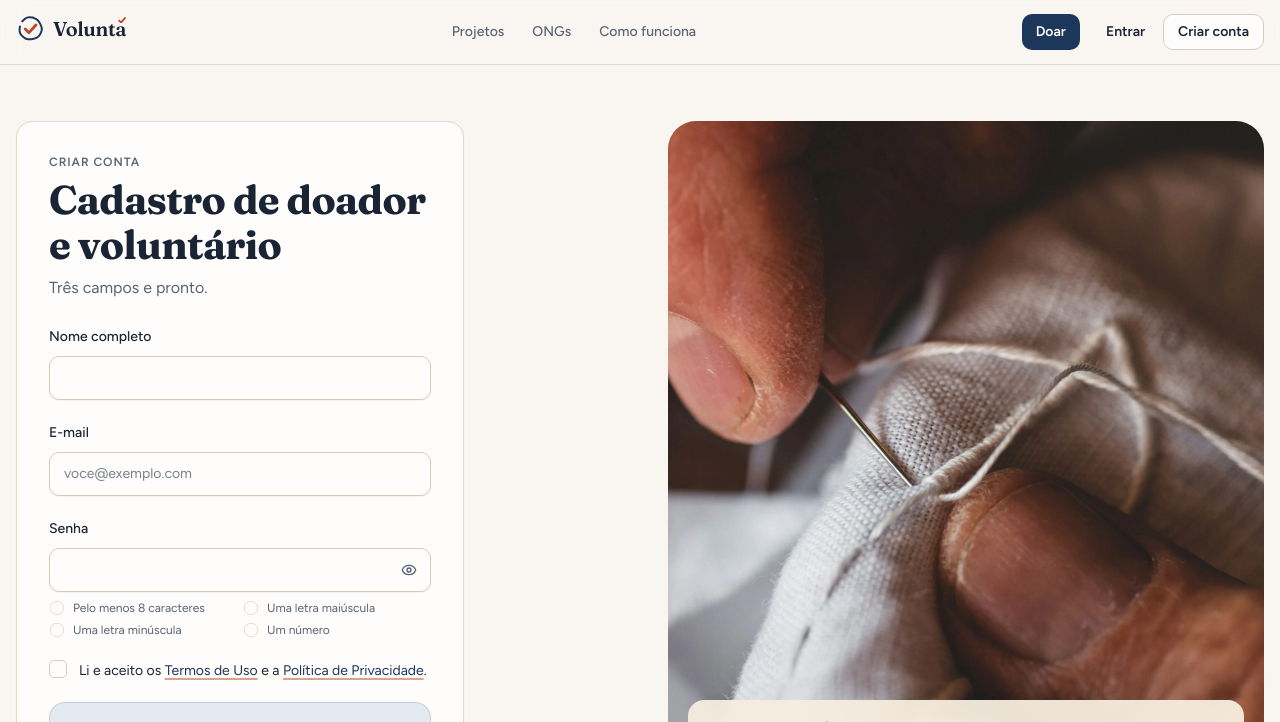
Scenario: CadastroPage: doador › sem sessão na resposta, explica que falta confirmar o e-mail
Type "Maria Souza" into the field labelled "Nome completo".
click(240, 378); type("Maria Souza")  # box [49,356,431,400]
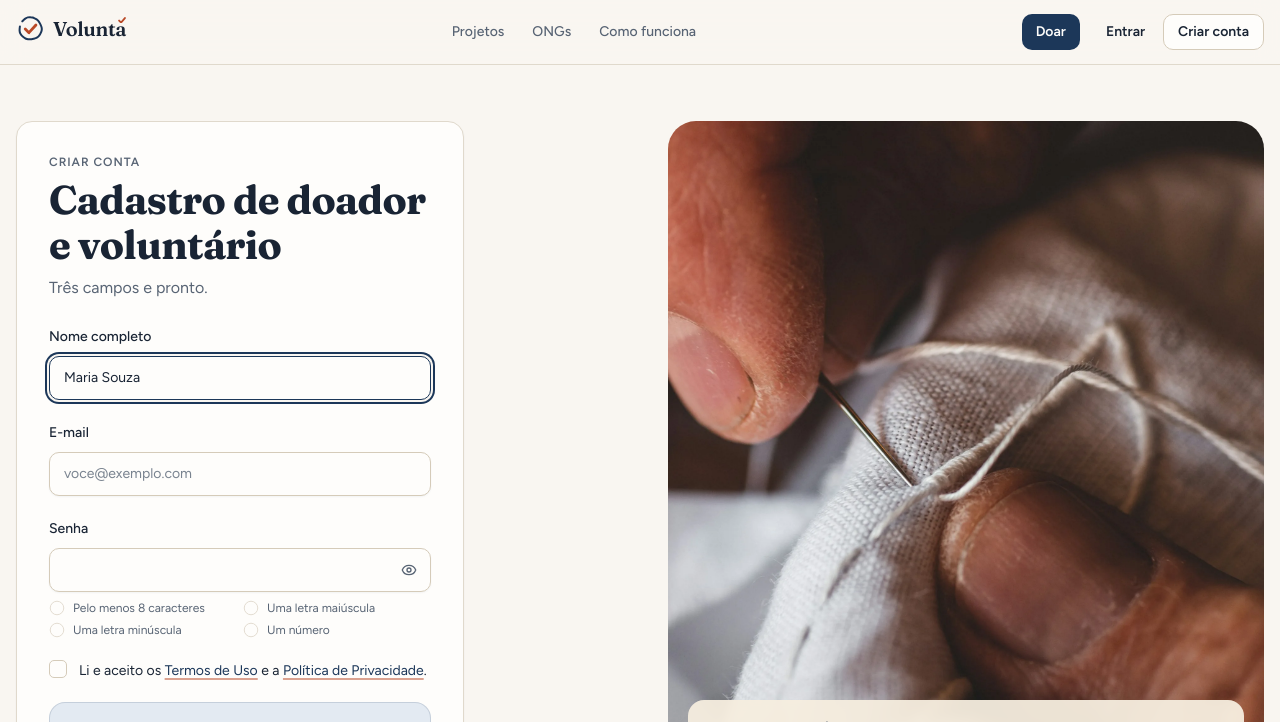
Type "maria@exemplo.com" into the field labelled "E-mail".
click(240, 474); type("maria@exemplo.com")  # box [49,452,431,496]
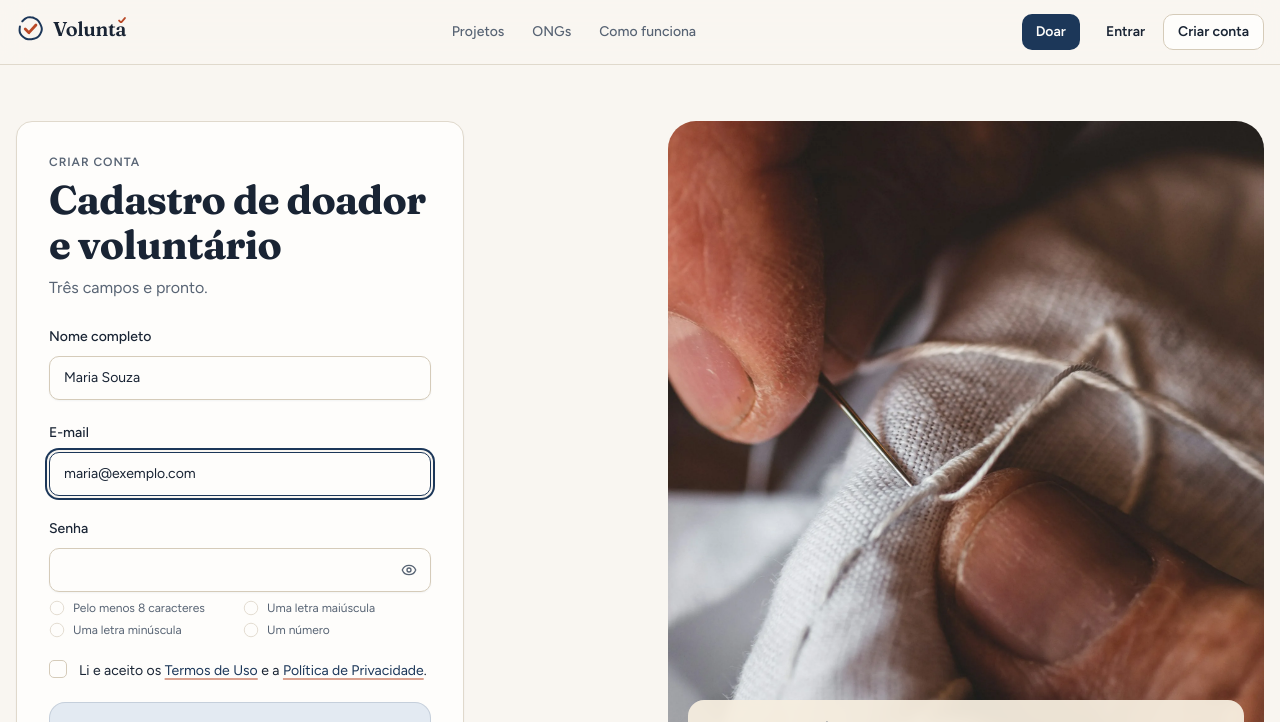
Type "Senha1234" into the password field labelled "Senha".
click(240, 570); type("Senha1234")  # box [49,548,431,592]
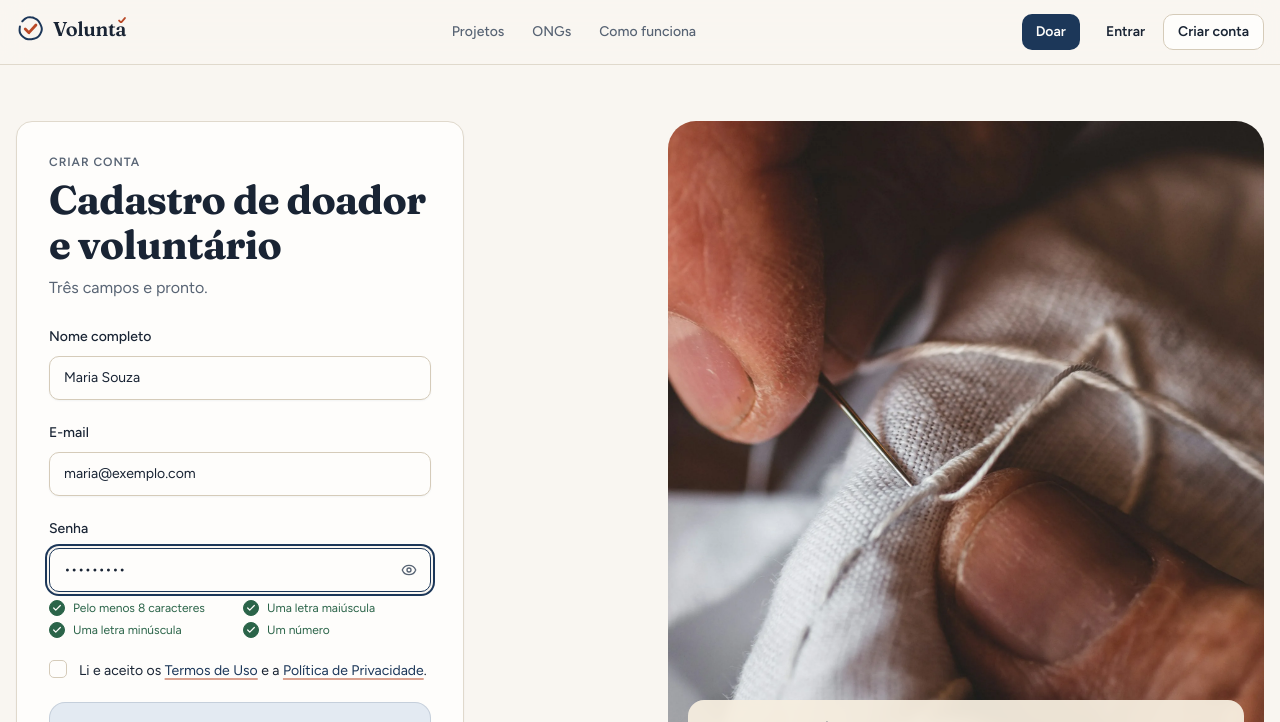
Click the checkbox.
click(58, 669)  # box [49,660,67,678]
(page scrolled)
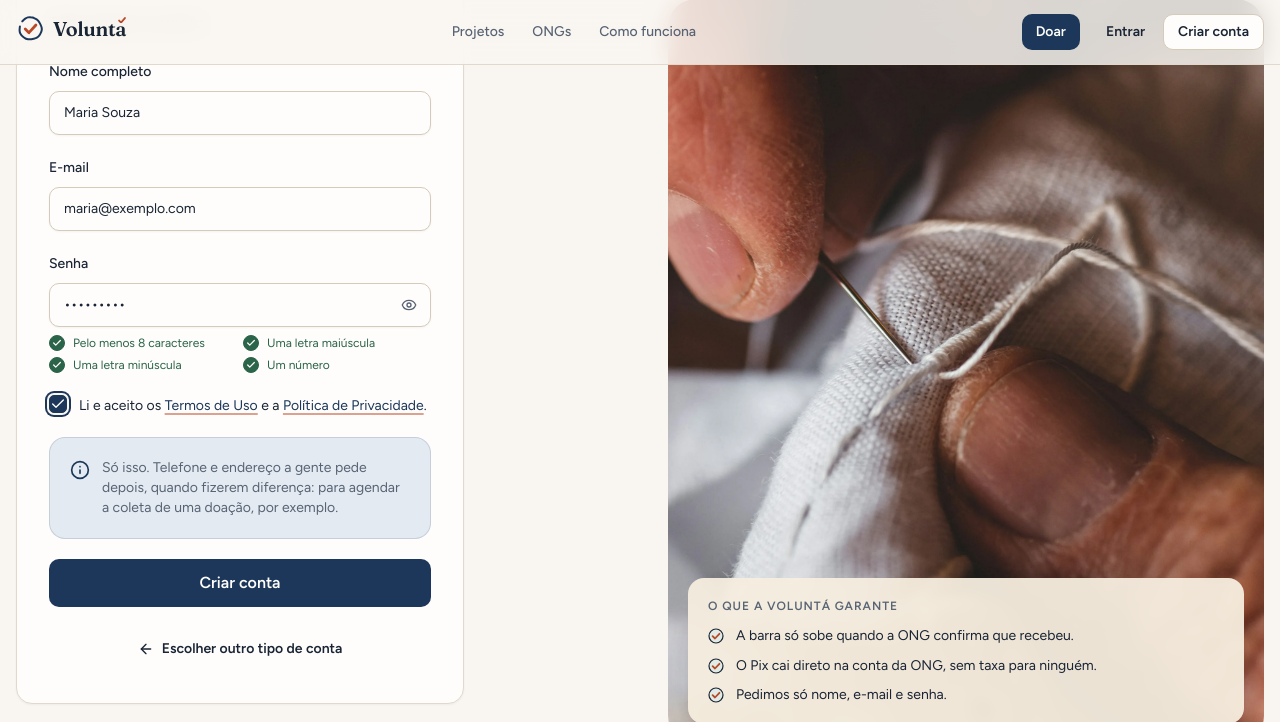
Click the button "Criar conta".
click(240, 583)  # box [49,559,431,607]
(page scrolled)
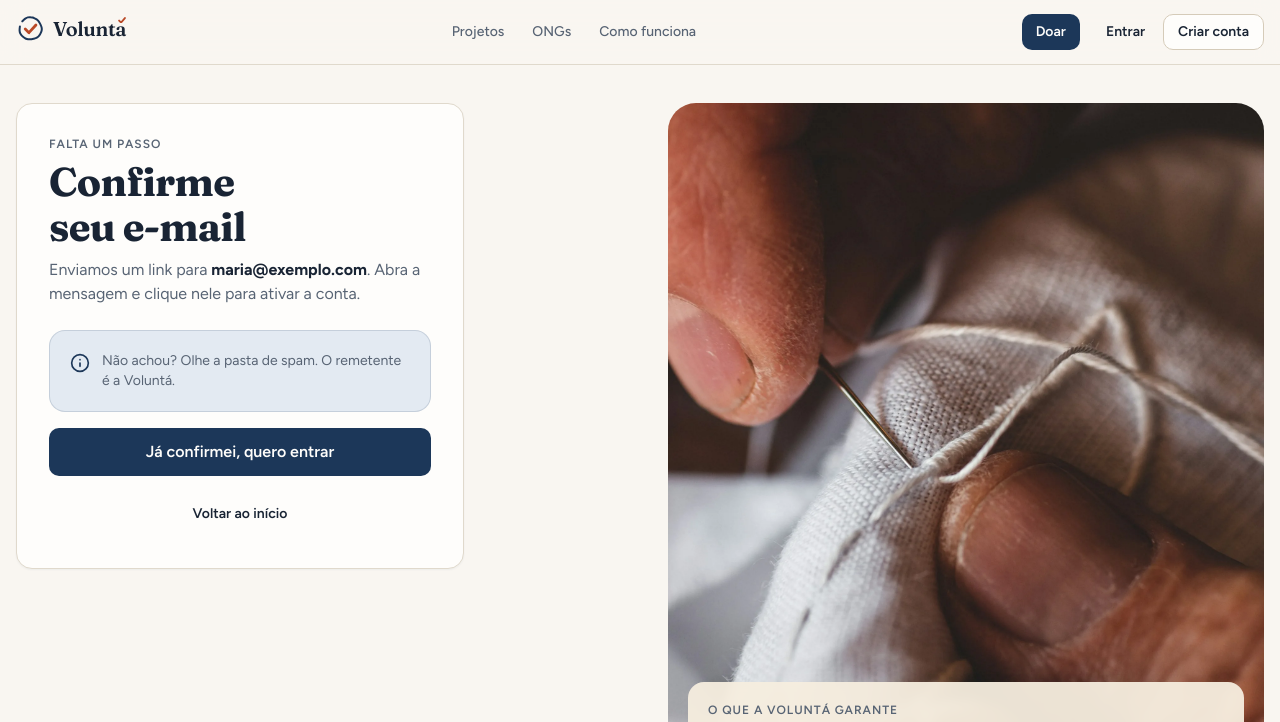
Check: the heading "Confirme seu e-mail" is shown, box [49,160,431,250]
Check: the text "maria@exemplo.com" is shown, box [211,260,367,279]
